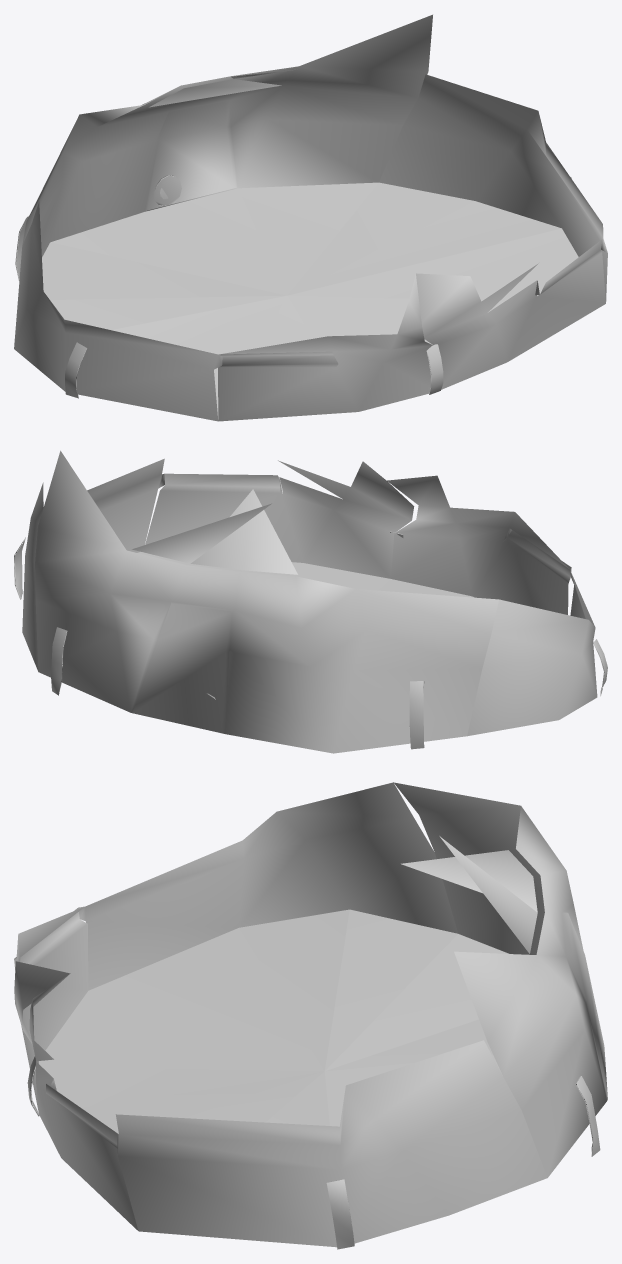
The model's file is hip.glb.
The picture shows the model from 3 angles, top to bottom: view 1: azimuth 30°, elevation 25°; view 2: azimuth 150°, elevation 25°; view 3: azimuth 270°, elevation 25°; orthographic projection. The views are drawn at different scales.
Visible parts, largest first — view 1: trousers-white_HIP; view 2: trousers-white_HIP; view 3: trousers-white_HIP.
Part boxes in pixels (x1,y1,x2,y2): trousers-white_HIP: (14,14,607,421); trousers-white_HIP: (14,450,607,753); trousers-white_HIP: (14,782,607,1249).
Size of the model in its own units: 0.4339 by 0.1591 by 0.3264.
Materials: 1 (1 with a texture image).
